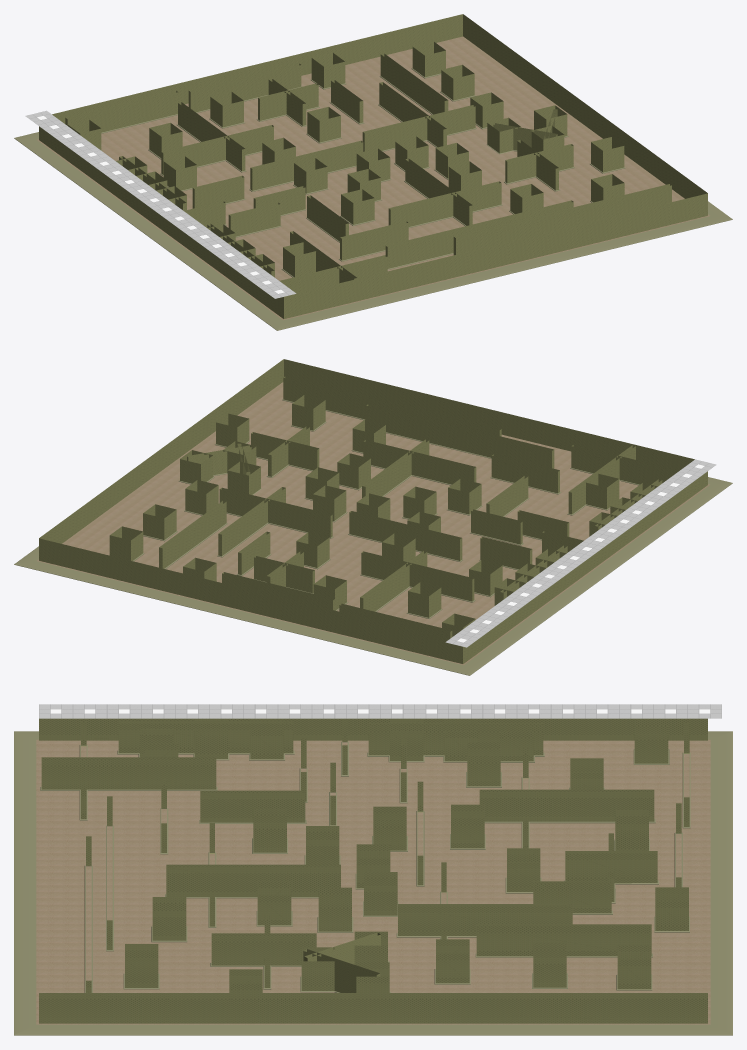
The model's file is backrooms_level_zero.glb.
3 views of the same model, one above another, from view 1: azimuth 30°, elevation 25°; view 2: azimuth 150°, elevation 25°; view 3: azimuth 270°, elevation 25° (orthographic). The views are drawn at different scales.
Parts seen in each view (by area): view 1: Cube.001_3, Plane_0, Plane.001_2, Cube.015_17, Cube.014_16, Cube.025_27, Cube.055_57, Cube.023_25, Cube.054_56, Cube.057_59, Cube.021_23, Cube.056_58 (+42 smaller); view 2: Cube.001_3, Plane_0, Plane.001_2, Cube.014_16, Cube.015_17, Cube.057_59, Cube.023_25, Cube.021_23, Cube.025_27, Cube.013_15, Cube.056_58, Cube.040_42 (+38 smaller); view 3: Plane_0, Cube.001_3, Plane.001_2, Cube.020_22, Cube.022_24, Cube.026_28, Cube.056_58, Cube.024_26, Cube.045_47, Cube.018_20, Cube.053_55, Cube.017_19 (+38 smaller).
Boxes of the visible parts, x1,y1,x2,y2 form: Cube.001_3: (14,14,732,330); Plane_0: (37,36,709,320); Plane.001_2: (25,110,296,298); Cube.015_17: (453,184,671,255); Cube.014_16: (385,200,573,269); Cube.025_27: (388,181,502,227); Cube.055_57: (65,90,178,133); Cube.023_25: (362,105,476,151); Cube.054_56: (188,63,301,113); Cube.057_59: (249,140,363,191); Cube.021_23: (160,125,273,176); Cube.056_58: (379,53,448,114); Cube.001_3: (14,359,732,675); Plane_0: (37,382,709,665); Plane.001_2: (445,459,716,647); Cube.014_16: (366,404,554,468); Cube.015_17: (282,376,501,436); Cube.057_59: (348,511,462,562); Cube.023_25: (219,487,333,538); Cube.021_23: (360,551,475,602); Cube.025_27: (363,440,476,485); Cube.013_15: (570,444,679,485); Cube.056_58: (159,500,227,568); Cube.040_42: (490,454,561,494); Plane_0: (36,739,710,1024); Cube.001_3: (14,718,732,1035); Plane.001_2: (39,704,721,718); Cube.020_22: (40,757,217,790); Cube.022_24: (479,789,655,823); Cube.026_28: (165,864,340,898); Cube.056_58: (475,924,652,957); Cube.024_26: (396,904,572,937); Cube.045_47: (117,721,294,754); Cube.018_20: (210,933,316,966); Cube.053_55: (367,723,544,756); Cube.017_19: (199,790,306,823).
Size of the model in its own units: 400 by 19.84 by 400.
6 materials, 3 textured.
